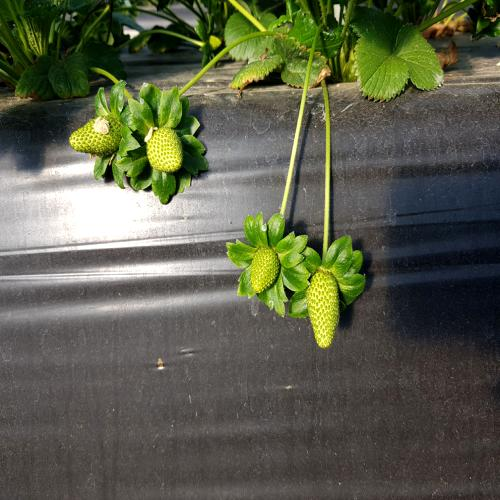unripe: (298, 266, 353, 355), (144, 120, 192, 182), (66, 111, 122, 163), (248, 241, 287, 303)
